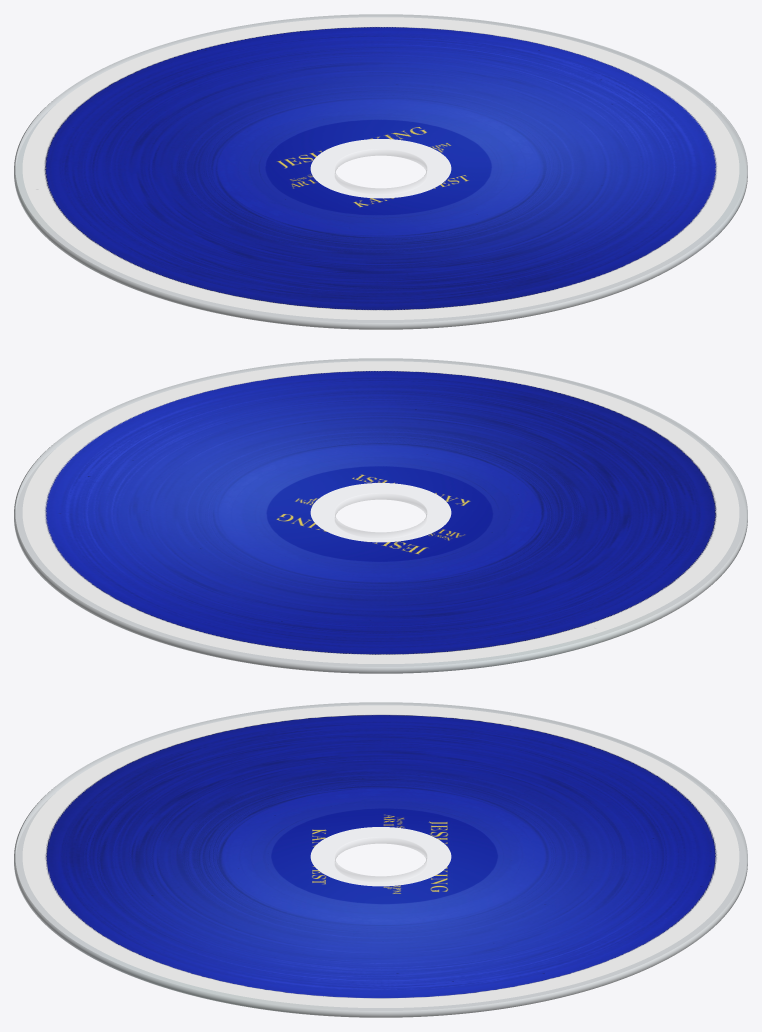
Rendered from 12_jesus_is_king.glb.
3 renders of one model, top to bottom at view 1: azimuth 30°, elevation 25°; view 2: azimuth 150°, elevation 25°; view 3: azimuth 270°, elevation 25°, orthographic.
Visible parts, largest first — view 1: Jesus Is King · complete CD; view 2: Jesus Is King · complete CD; view 3: Jesus Is King · complete CD.
Part boxes in pixels (bbox=[...]): Jesus Is King · complete CD: bbox=[14, 14, 747, 329]; Jesus Is King · complete CD: bbox=[14, 358, 747, 673]; Jesus Is King · complete CD: bbox=[14, 702, 747, 1017].
Size of the model in its own units: 0.12 by 0.00132 by 0.12.
Materials: 5 (2 with a texture image).
